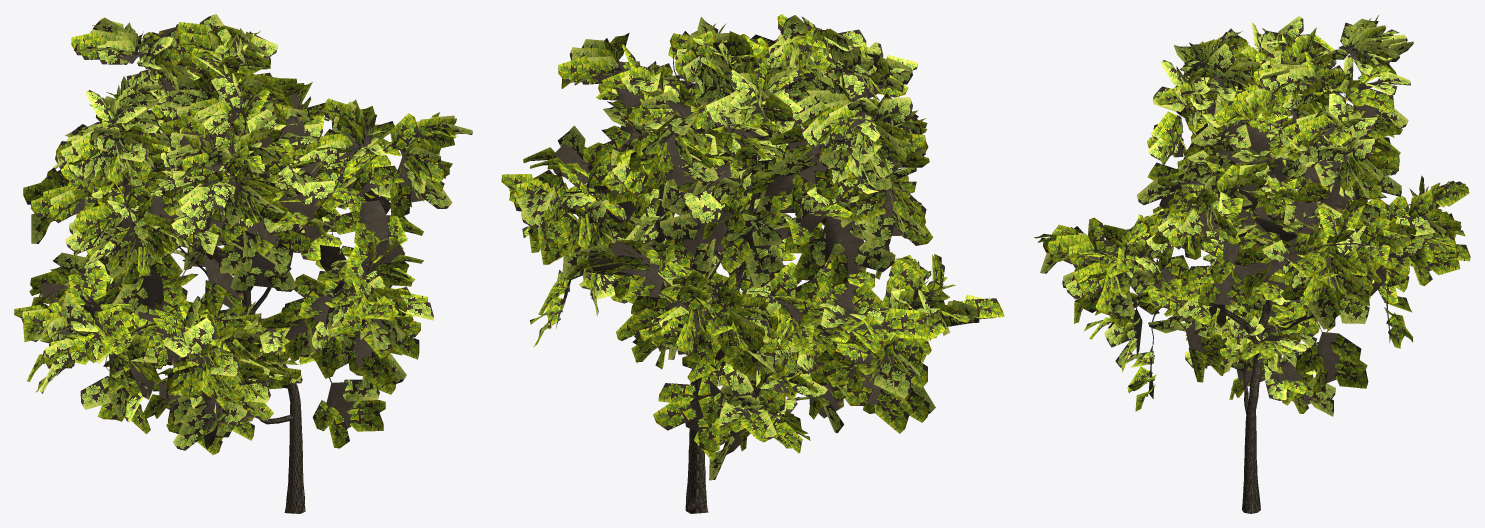
The model's file is walnut.glb.
3 renders of one model, left to right at view 1: azimuth 30°, elevation 25°; view 2: azimuth 150°, elevation 25°; view 3: azimuth 270°, elevation 25°, orthographic. The views are drawn at different scales.
Parts seen in each view (by area): view 1: Blackwalnut_Spring_Blackwalnut_Bark_Mat_0, Blackwalnut_Spring_Blackwalnut_Spring_Mat_0.853, Blackwalnut_Spring_Blackwalnut_Spring_Mat_0.535, Blackwalnut_Spring_Blackwalnut_Spring_Mat_0.905, Blackwalnut_Spring_Blackwalnut_Spring_Mat_0.1037, Blackwalnut_Spring_Blackwalnut_Spring_Mat_0.2371, Blackwalnut_Spring_Blackwalnut_Spring_Mat_0.253, Blackwalnut_Spring_Blackwalnut_Spring_Mat_0.2322, Blackwalnut_Spring_Blackwalnut_Spring_Mat_0.1055, Blackwalnut_Spring_Blackwalnut_Spring_Mat_0.903, Blackwalnut_Spring_Blackwalnut_Spring_Mat_0.2038, Blackwalnut_Spring_Blackwalnut_Spring_Mat_0.1773 (+20 smaller); view 2: Blackwalnut_Spring_Blackwalnut_Bark_Mat_0, Blackwalnut_Spring_Blackwalnut_Spring_Mat_0.2364, Blackwalnut_Spring_Blackwalnut_Spring_Mat_0.2292, Blackwalnut_Spring_Blackwalnut_Spring_Mat_0.785, Blackwalnut_Spring_Blackwalnut_Spring_Mat_0.1489, Blackwalnut_Spring_Blackwalnut_Spring_Mat_0.1607, Blackwalnut_Spring_Blackwalnut_Spring_Mat_0.2022, Blackwalnut_Spring_Blackwalnut_Spring_Mat_0.755, Blackwalnut_Spring_Blackwalnut_Spring_Mat_0.1492, Blackwalnut_Spring_Blackwalnut_Spring_Mat_0.104, Blackwalnut_Spring_Blackwalnut_Spring_Mat_0.2368, Blackwalnut_Spring_Blackwalnut_Spring_Mat_0.470 (+15 smaller); view 3: Blackwalnut_Spring_Blackwalnut_Bark_Mat_0, Blackwalnut_Spring_Blackwalnut_Bark_Mat_0.002, Blackwalnut_Spring_Blackwalnut_Spring_Mat_0.945, Blackwalnut_Spring_Blackwalnut_Spring_Mat_0.166, Blackwalnut_Spring_Blackwalnut_Spring_Mat_0.2119, Blackwalnut_Spring_Blackwalnut_Spring_Mat_0.2174, Blackwalnut_Spring_Blackwalnut_Spring_Mat_0.2172, Blackwalnut_Spring_Blackwalnut_Spring_Mat_0.855, Blackwalnut_Spring_Blackwalnut_Spring_Mat_0.451.
Part boxes in pixels (left/top/right/bottom): Blackwalnut_Spring_Blackwalnut_Bark_Mat_0: left=284, top=417, right=305, bottom=513; Blackwalnut_Spring_Blackwalnut_Spring_Mat_0.853: left=359, top=200, right=388, bottom=243; Blackwalnut_Spring_Blackwalnut_Spring_Mat_0.535: left=184, top=318, right=216, bottom=355; Blackwalnut_Spring_Blackwalnut_Spring_Mat_0.905: left=204, top=259, right=243, bottom=308; Blackwalnut_Spring_Blackwalnut_Spring_Mat_0.1037: left=361, top=237, right=404, bottom=275; Blackwalnut_Spring_Blackwalnut_Spring_Mat_0.2371: left=80, top=376, right=111, bottom=409; Blackwalnut_Spring_Blackwalnut_Spring_Mat_0.253: left=390, top=113, right=418, bottom=150; Blackwalnut_Spring_Blackwalnut_Spring_Mat_0.2322: left=81, top=268, right=106, bottom=302; Blackwalnut_Spring_Blackwalnut_Spring_Mat_0.1055: left=326, top=382, right=356, bottom=428; Blackwalnut_Spring_Blackwalnut_Spring_Mat_0.903: left=142, top=271, right=163, bottom=309; Blackwalnut_Spring_Blackwalnut_Spring_Mat_0.2038: left=112, top=282, right=148, bottom=314; Blackwalnut_Spring_Blackwalnut_Spring_Mat_0.1773: left=180, top=191, right=213, bottom=220; Blackwalnut_Spring_Blackwalnut_Bark_Mat_0: left=685, top=429, right=708, bottom=513; Blackwalnut_Spring_Blackwalnut_Spring_Mat_0.2364: left=874, top=360, right=910, bottom=398; Blackwalnut_Spring_Blackwalnut_Spring_Mat_0.2292: left=653, top=396, right=696, bottom=430; Blackwalnut_Spring_Blackwalnut_Spring_Mat_0.785: left=830, top=222, right=866, bottom=274; Blackwalnut_Spring_Blackwalnut_Spring_Mat_0.1489: left=659, top=213, right=700, bottom=239; Blackwalnut_Spring_Blackwalnut_Spring_Mat_0.1607: left=854, top=241, right=895, bottom=272; Blackwalnut_Spring_Blackwalnut_Spring_Mat_0.2022: left=867, top=214, right=895, bottom=250; Blackwalnut_Spring_Blackwalnut_Spring_Mat_0.755: left=682, top=207, right=730, bottom=255; Blackwalnut_Spring_Blackwalnut_Spring_Mat_0.1492: left=718, top=237, right=751, bottom=273; Blackwalnut_Spring_Blackwalnut_Spring_Mat_0.104: left=688, top=200, right=724, bottom=223; Blackwalnut_Spring_Blackwalnut_Spring_Mat_0.2368: left=874, top=393, right=909, bottom=433; Blackwalnut_Spring_Blackwalnut_Spring_Mat_0.470: left=770, top=262, right=801, bottom=300; Blackwalnut_Spring_Blackwalnut_Bark_Mat_0: left=1242, top=422, right=1260, bottom=513; Blackwalnut_Spring_Blackwalnut_Bark_Mat_0.002: left=1245, top=277, right=1271, bottom=424; Blackwalnut_Spring_Blackwalnut_Spring_Mat_0.945: left=1314, top=332, right=1340, bottom=383; Blackwalnut_Spring_Blackwalnut_Spring_Mat_0.166: left=1208, top=43, right=1234, bottom=78; Blackwalnut_Spring_Blackwalnut_Spring_Mat_0.2119: left=1307, top=293, right=1336, bottom=329; Blackwalnut_Spring_Blackwalnut_Spring_Mat_0.2174: left=1295, top=344, right=1323, bottom=374; Blackwalnut_Spring_Blackwalnut_Spring_Mat_0.2172: left=1331, top=334, right=1361, bottom=365; Blackwalnut_Spring_Blackwalnut_Spring_Mat_0.855: left=1223, top=242, right=1251, bottom=286; Blackwalnut_Spring_Blackwalnut_Spring_Mat_0.451: left=1408, top=190, right=1433, bottom=217.
Bounding box in the file's own units: 18.51 × 20.34 × 18.05.
2 materials, 2 textured.
